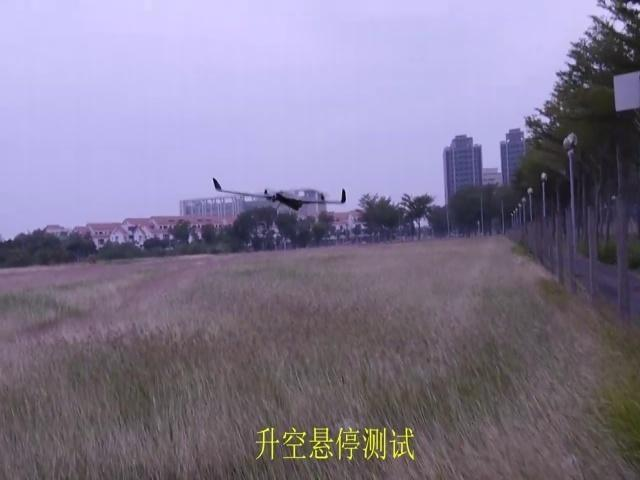Airplane: (212, 178, 346, 211)
